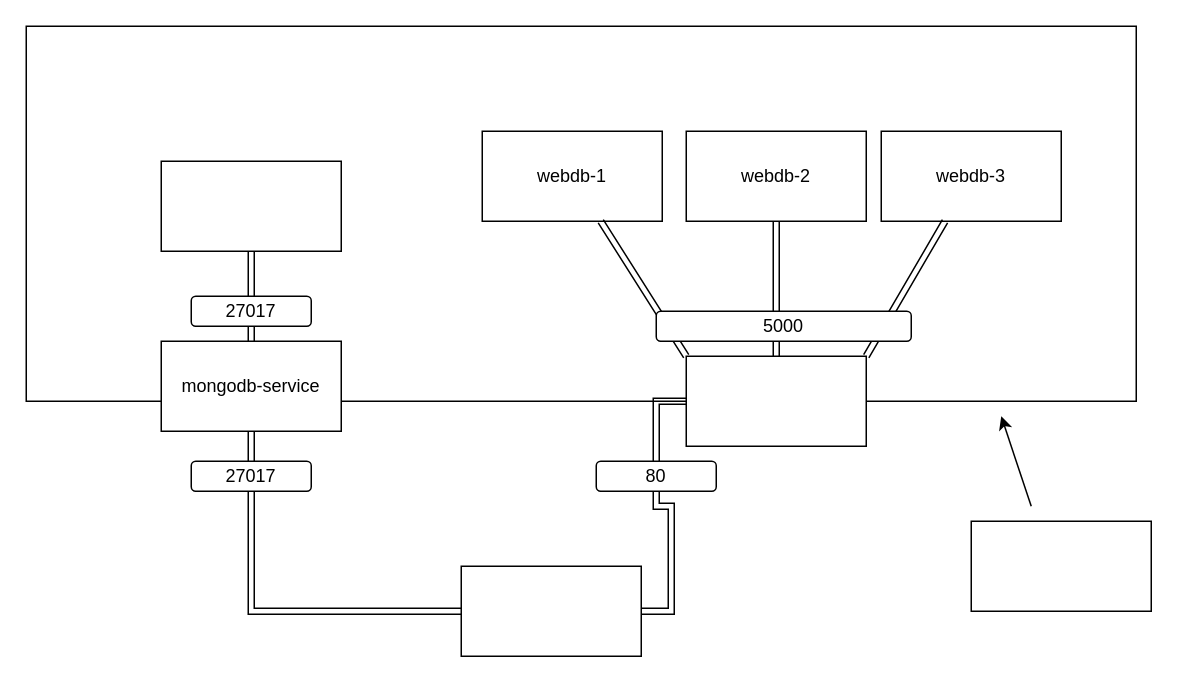
Image size: 1178x683. Some labels were removed from this diagram. The centre of each missing label's shape, as x and y in pixels:
"Cluster" goes at (x=1060, y=565).
"Mon PC" goes at (x=550, y=610).
"mongodb" goes at (x=250, y=205).
"webdb-service" goes at (x=775, y=400).
